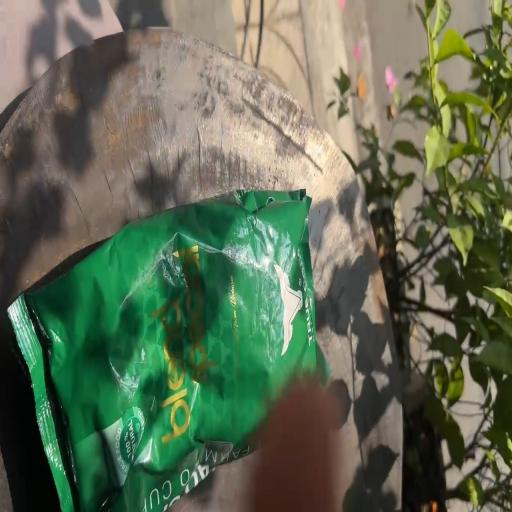cafe_xay: (8, 190, 327, 511)
